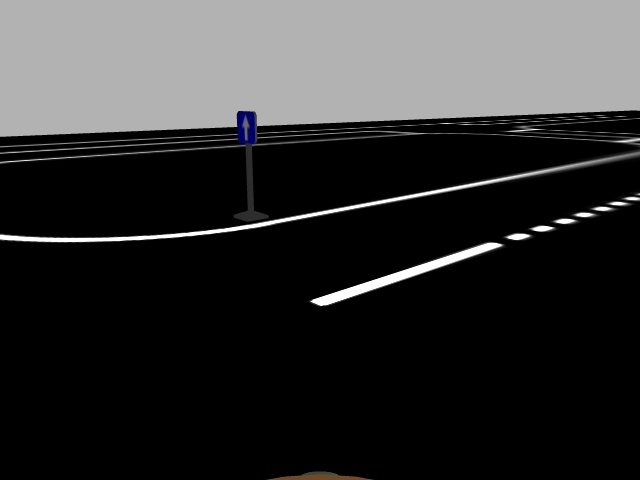oneway: (236, 109, 258, 147)
